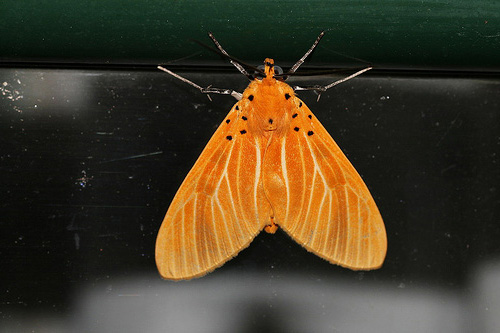Agape chloropyga: (150, 25, 389, 281)
moth: (152, 27, 391, 283)
